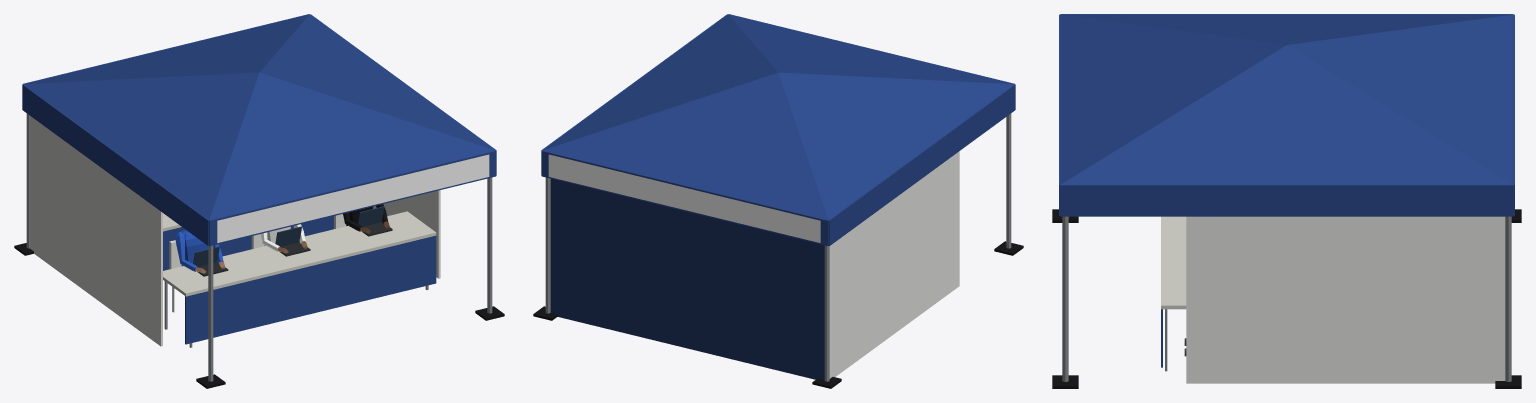
Rendered from press_tent.glb.
The picture shows the model from 3 angles, left to right: view 1: azimuth 30°, elevation 25°; view 2: azimuth 150°, elevation 25°; view 3: azimuth 270°, elevation 25°; orthographic projection. The views are drawn at different scales.
Parts seen in each view (by area): view 1: Tent, Journalists; view 2: Tent; view 3: Tent.
Boxes of the visible parts, x1,y1,x2,y2 form: Tent: [14, 14, 504, 388]; Journalists: [175, 204, 389, 273]; Tent: [533, 14, 1023, 388]; Tent: [1052, 14, 1521, 388].
Size of the model in its own units: 4.16 by 2.8 by 4.66.
